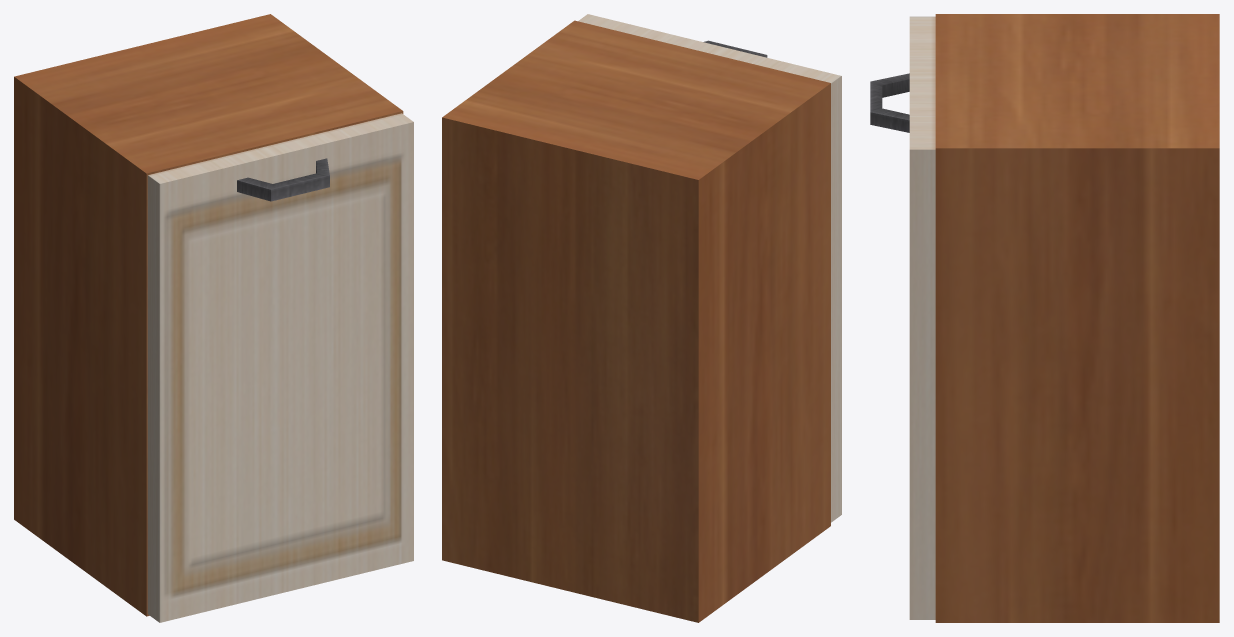
The model's file is Kitchen_Cabinet_1A.fbx.
3 renders of one model, left to right at view 1: azimuth 30°, elevation 25°; view 2: azimuth 150°, elevation 25°; view 3: azimuth 270°, elevation 25°, orthographic. The views are drawn at different scales.
Parts seen in each view (by area): view 1: polySurface1532; view 2: polySurface1532; view 3: polySurface1532.
Boxes of the visible parts, bbox=[...] form: polySurface1532: bbox=[14, 14, 413, 622]; polySurface1532: bbox=[442, 14, 841, 622]; polySurface1532: bbox=[870, 14, 1219, 622].
Bounding box in the file's own units: 0.7792 × 1.29 × 0.8565.
